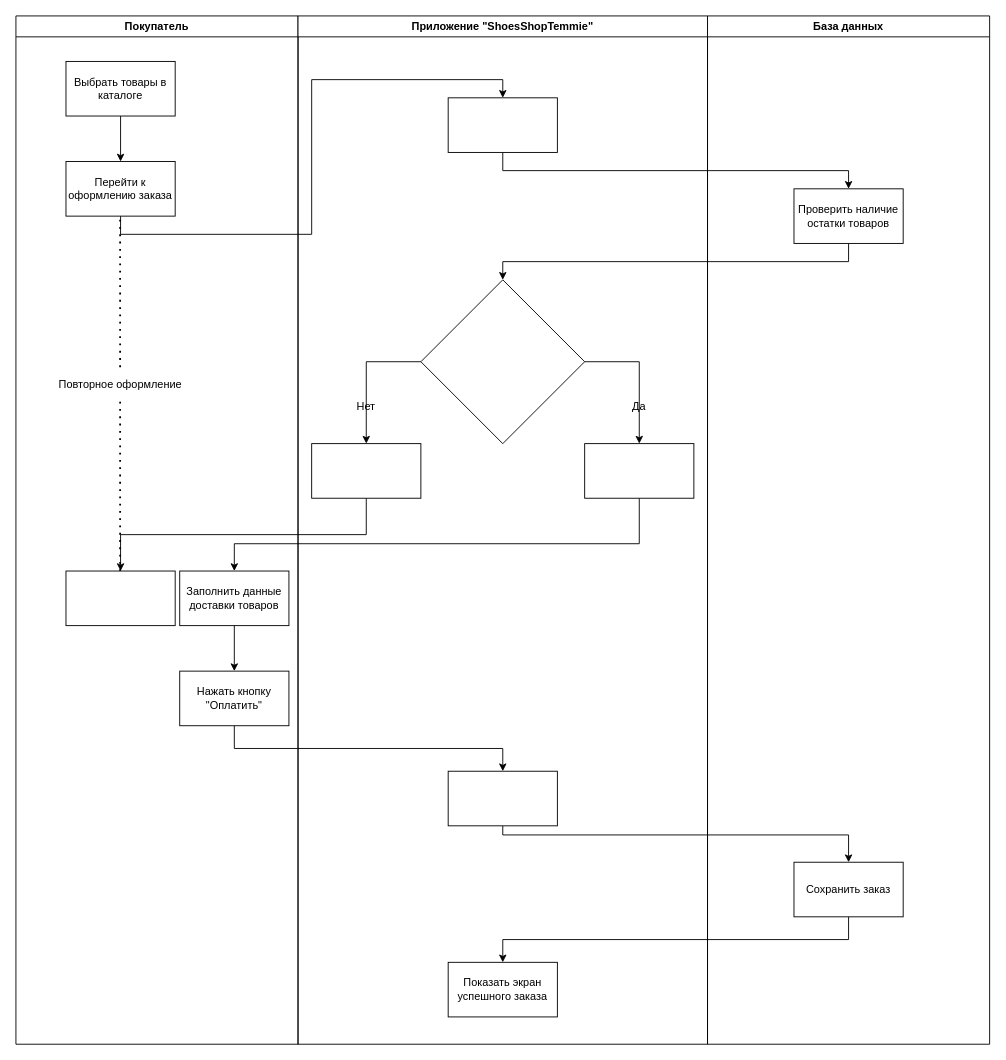
Image size: 1006x1060. Some labels were removed from this diagram. Here are the shapes that lost their labels. From the top down, the centre of each, then its label:
(502,124): Запросить актуальные остатки товаров
(502,361): Все товары в наличии?
(366,470): Показать сообщение об отсутствии
(639,470): Отобразить форму оформления заказа
(120,598): Изменить состав корзины
(502,798): Обработать оплату и сформировать заказ
